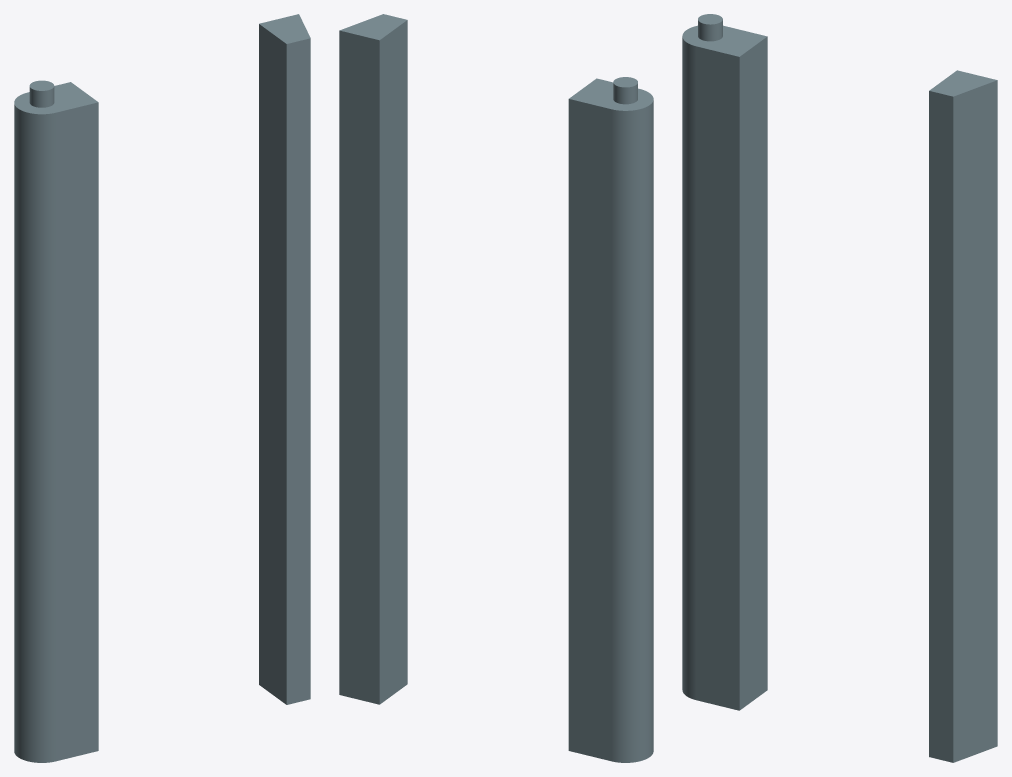
The model's file is step_02.glb.
The picture shows the model from 3 angles, left to right: view 1: azimuth 30°, elevation 25°; view 2: azimuth 150°, elevation 25°; view 3: azimuth 330°, elevation 25°; orthographic projection.
Parts seen in each view (by area): view 1: part__heel post, part__mitre post; view 2: part__heel post, part__mitre post; view 3: part__heel post, part__mitre post.
Boxes of the visible parts, bbox=[...] form: part__heel post: bbox=[14, 80, 98, 762]; part__mitre post: bbox=[259, 14, 310, 704]; part__heel post: bbox=[568, 77, 653, 762]; part__mitre post: bbox=[339, 14, 407, 704]; part__heel post: bbox=[682, 14, 767, 710]; part__mitre post: bbox=[929, 70, 997, 762].
Size of the model in its own units: 2760 by 5950 by 450.
